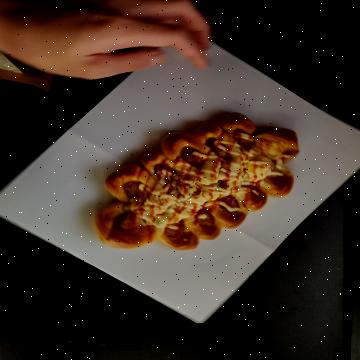pizza_bread: (113, 57, 250, 260)
